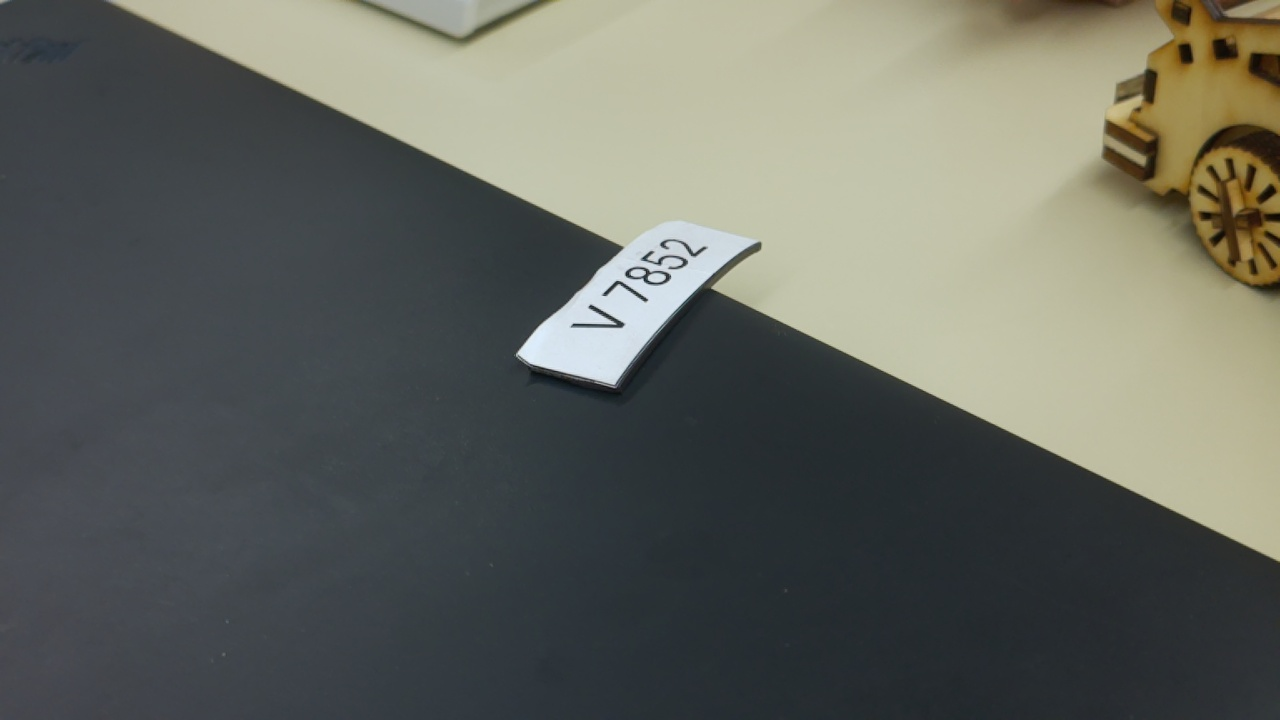license_plate: (506, 211, 768, 402)
